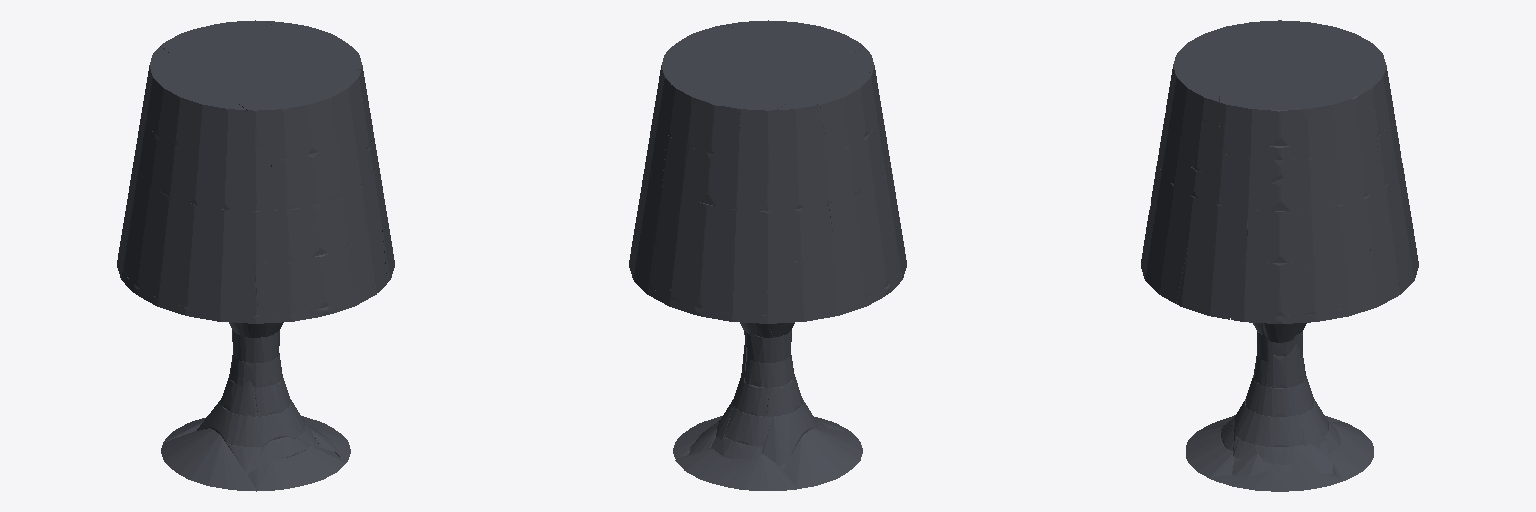
robot.urdf — ../obj/lamp2.urdf:
<?xml version="1.0" ?>
<robot name="../obj/lamp2.urdf">
  <link name="baseLink">
    <inertial>
      <origin rpy="0 0 0" xyz="-0.0003 0.0003 -0.0067"/>
       <mass value="50"/>
       <inertia ixx="2.352794823113073e-07" ixy="-3.201925745219967e-10" ixz="2.203683609115271e-10" iyy="2.3768253911228702e-07" iyz="1.0021513181689745e-09" izz="2.3944290404490437e-07"/>
    </inertial>
    <visual>
      <origin rpy="0 0 0" xyz="-0.0003 0.0003 -0.0067"/>
      <geometry>
        <mesh filename="../obj/lamp2_vhacd.obj" 
		scale="9.0 9.0 9.0"/>
      </geometry>
     <material name="grey">
      <color rgba="0.32 0.33 0.36 1"/>
     </material>
    </visual>
    <collision>
      <origin rpy="0 0 0" xyz="-0.0003 0.0003 -0.0067"/>
      <geometry>
        <mesh filename="../obj/lamp2_vhacd.obj" scale="9.0 9.0 9.0"/>
      </geometry>
    </collision>
  </link>
</robot>
        

--- What the picture shows (computed from the rendered views, not written in the file) ---
Views: 3 orthographic renders of the robot side by side, from view 1: azimuth 30°, elevation 25°; view 2: azimuth 150°, elevation 25°; view 3: azimuth 270°, elevation 25°.
Model ../obj/lamp2.urdf with 1 links and 0 joints (none), rooted at baseLink, posed all joints at 0.
Links seen in each view (by area): view 1: baseLink; view 2: baseLink; view 3: baseLink.
Boxes of the visible links, box(x1,y1,x2,y2) form: baseLink: box(117, 20, 394, 491); baseLink: box(629, 20, 906, 490); baseLink: box(1141, 20, 1418, 491).
Size in the robot's own frame: 0.6702 by 0.6702 by 1.03 metres.
1 mesh visuals loaded from 1 distinct referenced files (1 OBJ).